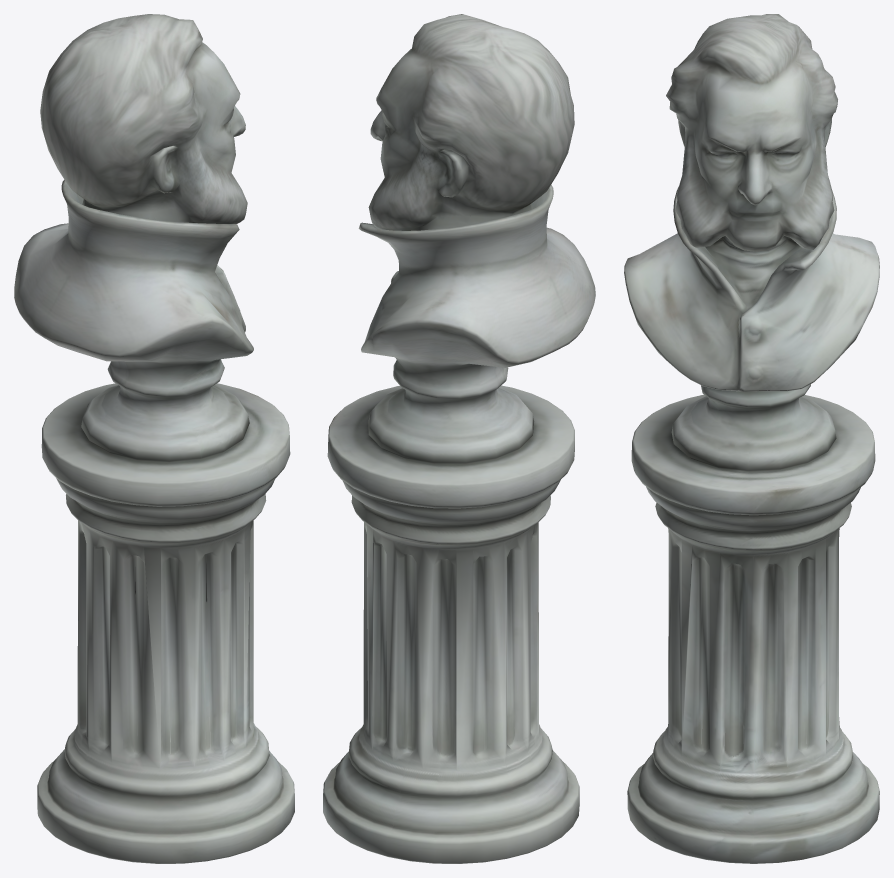
The model's file is SM_Env_BaskervilleMarbleBust.fbx.
The picture shows the model from 3 angles, left to right: view 1: azimuth 30°, elevation 25°; view 2: azimuth 150°, elevation 25°; view 3: azimuth 270°, elevation 25°; orthographic projection. The views are drawn at different scales.
Parts seen in each view (by area): view 1: SM_Env_BaskervilleMarbleBust; view 2: SM_Env_BaskervilleMarbleBust; view 3: SM_Env_BaskervilleMarbleBust.
Boxes of the visible parts, left/top/right/bottom form: SM_Env_BaskervilleMarbleBust: left=14, top=14, right=294, bottom=863; SM_Env_BaskervilleMarbleBust: left=323, top=14, right=595, bottom=863; SM_Env_BaskervilleMarbleBust: left=624, top=14, right=879, bottom=863.
Bounding box in the file's own units: 15.97 × 15.27 × 51.
Materials: 1 (1 with a texture image).
